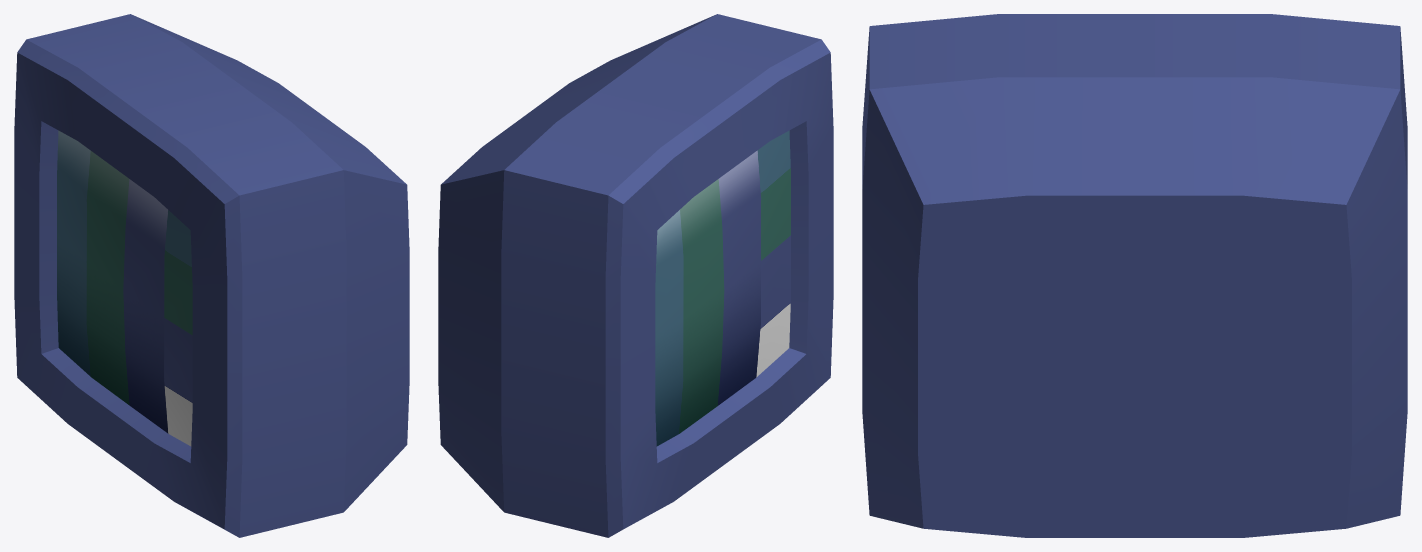
The model's file is Monitor01.fbx.
The picture shows the model from 3 angles, left to right: view 1: azimuth 30°, elevation 25°; view 2: azimuth 150°, elevation 25°; view 3: azimuth 270°, elevation 25°; orthographic projection. The views are drawn at different scales.
Visible parts, largest first — view 1: polySurface12, polySurface13; view 2: polySurface12, polySurface13; view 3: polySurface12.
Part boxes in pixels (box(x1,y1,x2,y2)): polySurface12: box(14, 14, 409, 537); polySurface13: box(57, 130, 192, 446); polySurface12: box(438, 14, 833, 537); polySurface13: box(655, 130, 790, 446); polySurface12: box(862, 14, 1407, 537).
Bounding box in the file's own units: 20.94 × 34.84 × 38.49.
Materials: 1 (1 with a texture image).
